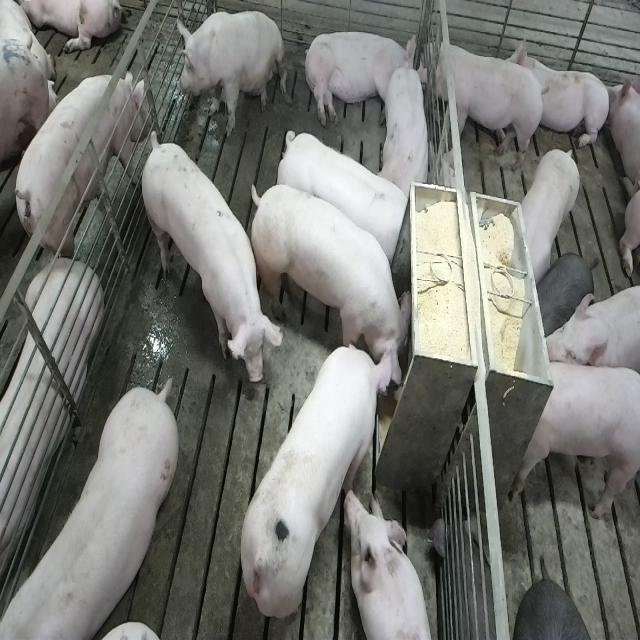Feeding: (239, 338, 399, 621), (254, 174, 418, 381)
Lateral_lying: (302, 28, 418, 128)
Sitting: (177, 7, 286, 138)
Standing: (0, 381, 176, 640), (137, 130, 278, 392), (8, 68, 148, 268), (508, 363, 638, 519), (277, 124, 411, 264), (424, 28, 547, 171), (541, 284, 640, 372), (516, 147, 581, 280), (534, 252, 596, 337)
Sternal_lying: (0, 260, 101, 604), (346, 490, 434, 640), (514, 34, 612, 156), (380, 47, 433, 199)
